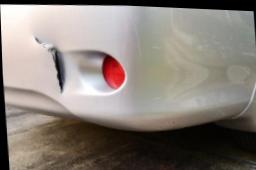Bumper: (24, 32, 74, 95)
